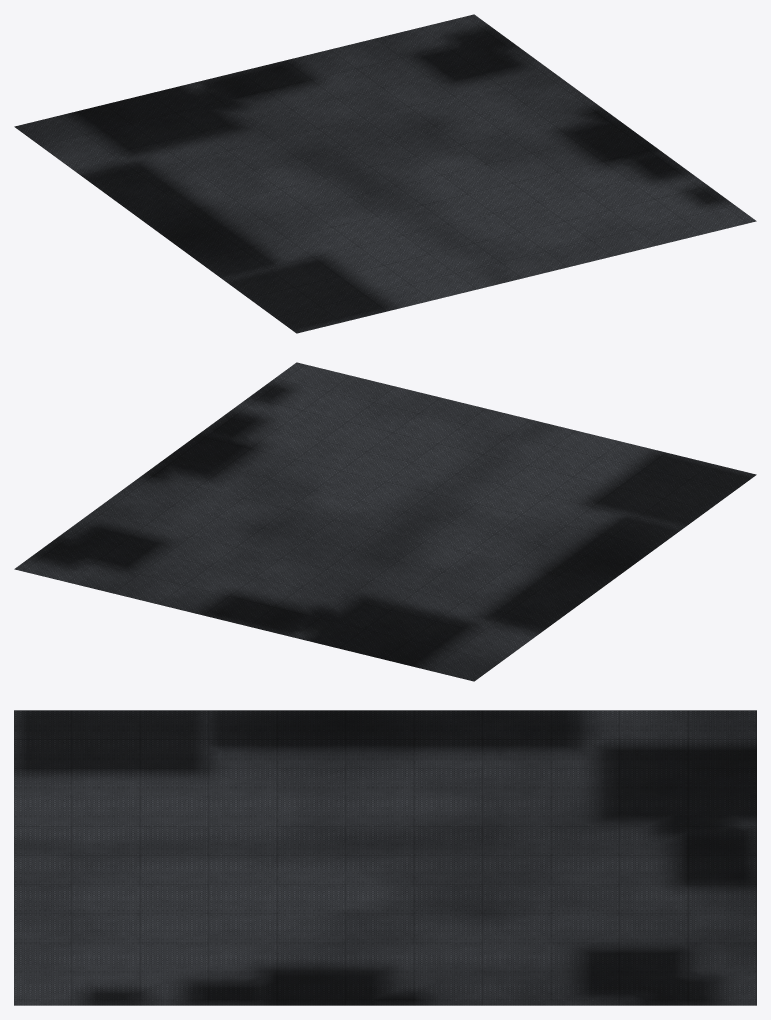
File: garage_floor.glb
3 renders of one model, top to bottom at view 1: azimuth 30°, elevation 25°; view 2: azimuth 150°, elevation 25°; view 3: azimuth 270°, elevation 25°, orthographic. The views are drawn at different scales.
Parts seen in each view (by area): view 1: root; view 2: root; view 3: root.
Part boxes in pixels (x1,y1,x2,y2): root: (14, 14, 756, 333); root: (14, 362, 756, 681); root: (14, 710, 756, 1005).
Bounding box in the file's own units: 6.22 × 0 × 6.61.
1 material, 1 textured.
